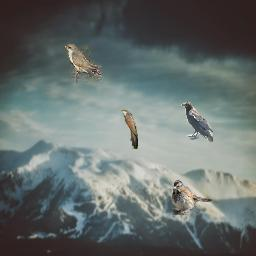Crow: (181, 102, 213, 142)
Cuckoo: (64, 44, 102, 84), (121, 109, 138, 149)
Sparrow: (172, 180, 212, 215)
